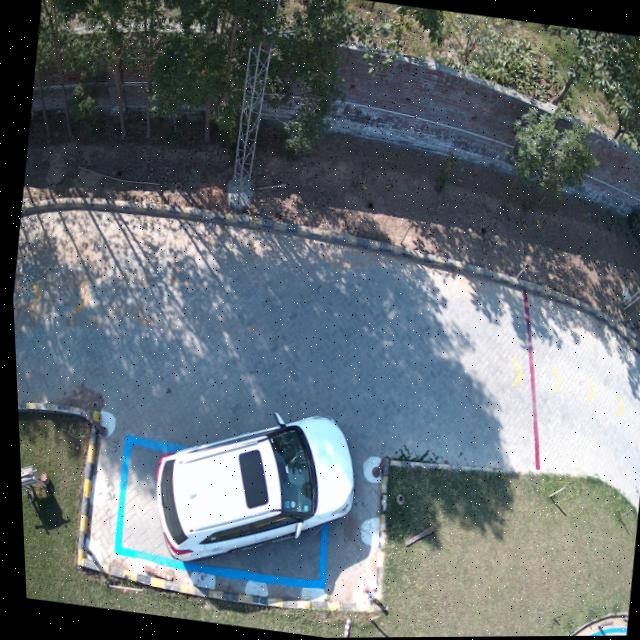car: (151, 414, 350, 562)
